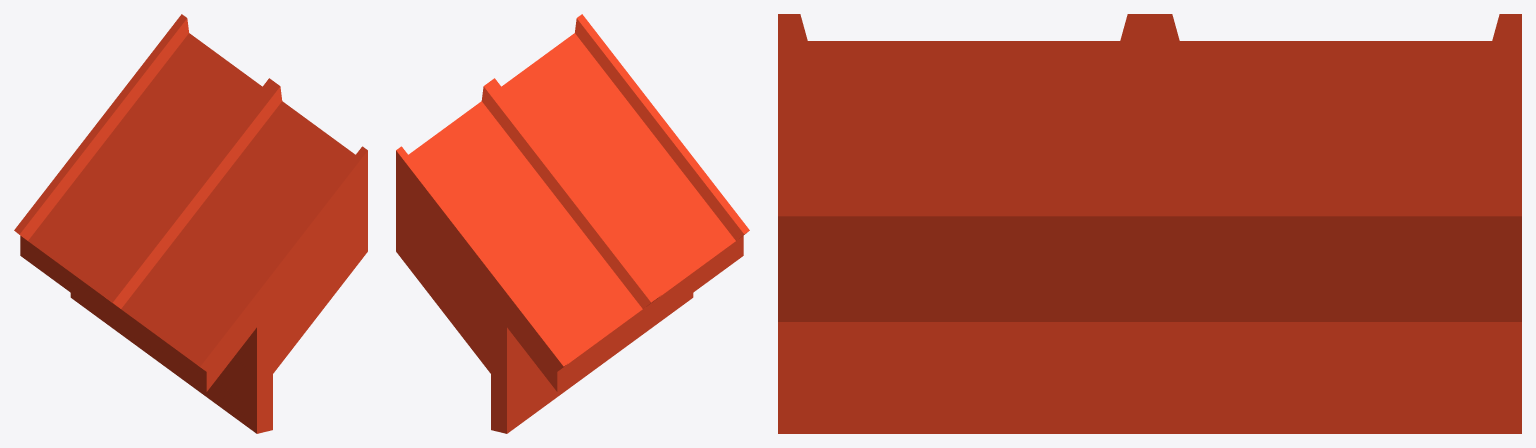
Rendered from roof-metal-regular-1m-edge.fbx.
3 renders of one model, left to right at view 1: azimuth 30°, elevation 25°; view 2: azimuth 150°, elevation 25°; view 3: azimuth 270°, elevation 25°, orthographic. The views are drawn at different scales.
Visible parts, largest first — view 1: roof-metal-regular-1m-edge; view 2: roof-metal-regular-1m-edge; view 3: roof-metal-regular-1m-edge.
Part boxes in pixels (x1,y1,x2,y2): roof-metal-regular-1m-edge: (14, 14, 367, 433); roof-metal-regular-1m-edge: (396, 14, 749, 433); roof-metal-regular-1m-edge: (778, 14, 1521, 433).
Bounding box in the file's own units: 0.52 × 0.7602 × 1.
